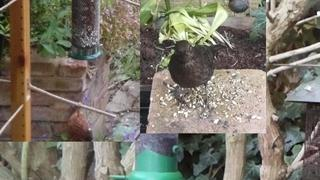blackbird: (167, 40, 226, 114)
